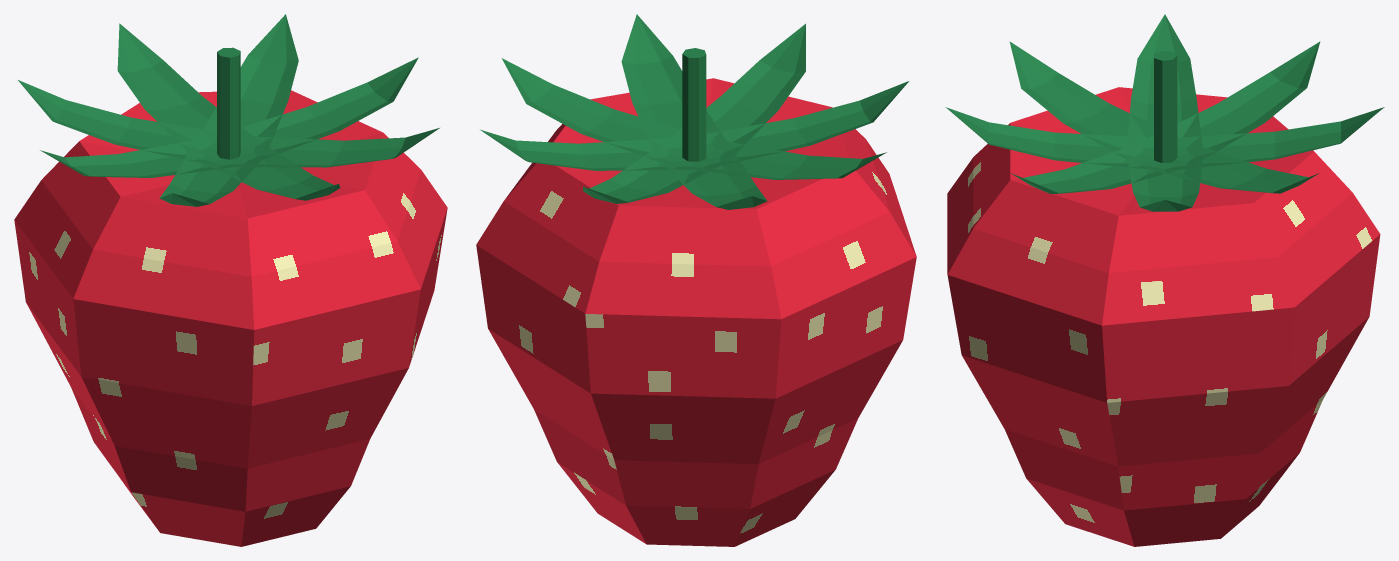
Rendered from strawberry.glb.
3 views of the same model, side by side, from view 1: azimuth 30°, elevation 25°; view 2: azimuth 150°, elevation 25°; view 3: azimuth 270°, elevation 25° (orthographic).
Visible parts, largest first — view 1: sphere; view 2: sphere; view 3: sphere.
Boxes of the visible parts, <box> form: sphere: <box>14,14,447,546</box>; sphere: <box>476,14,916,546</box>; sphere: <box>945,14,1384,546</box>.
Bounding box in the file's own units: 0.625 × 0.75 × 0.625.
Materials: 1 (1 with a texture image).
